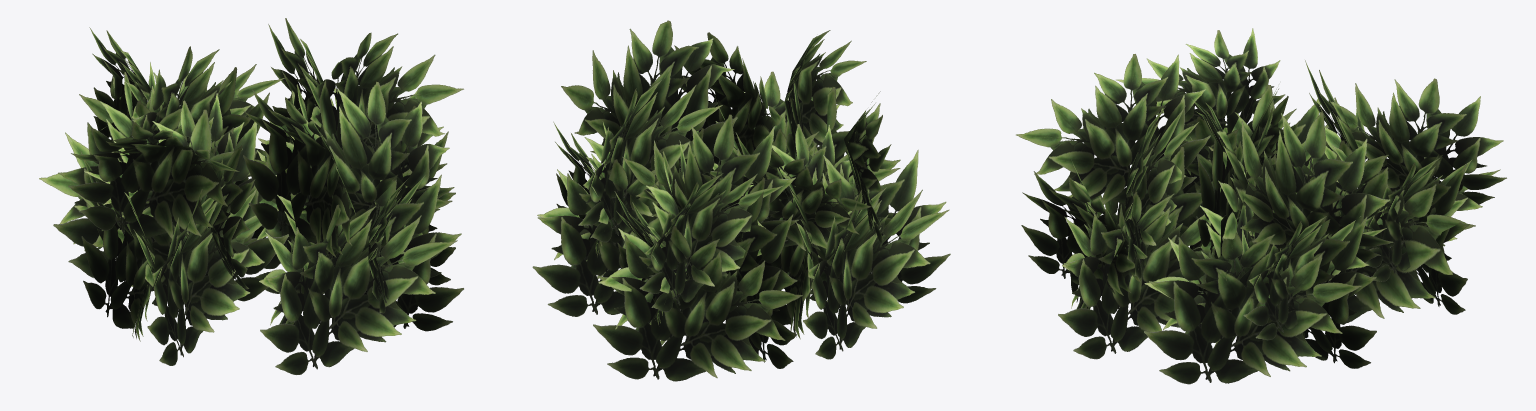
The model's file is leafy_shrub_cluster.DAE.
3 renders of one model, left to right at view 1: azimuth 30°, elevation 25°; view 2: azimuth 150°, elevation 25°; view 3: azimuth 270°, elevation 25°, orthographic. The views are drawn at different scales.
Parts seen in each view (by area): view 1: Plane02-Pivot; view 2: Plane02-Pivot; view 3: Plane02-Pivot.
Part boxes in pixels (bbox=[...]): Plane02-Pivot: bbox=[39, 18, 463, 374]; Plane02-Pivot: bbox=[532, 20, 950, 381]; Plane02-Pivot: bbox=[1016, 28, 1506, 384].
Size of the model in its own units: 6.17 by 4.03 by 7.12.
